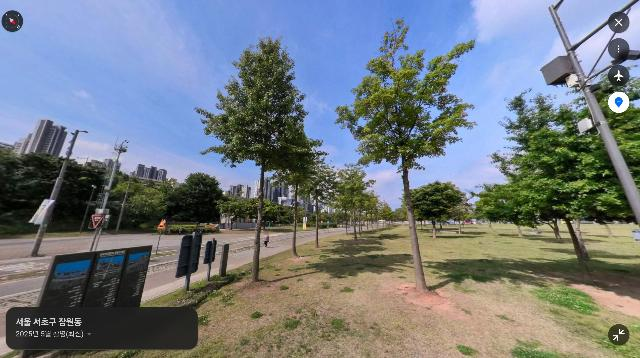other: (333, 17, 478, 293), (194, 34, 329, 283), (473, 86, 640, 262), (266, 151, 331, 258), (325, 166, 380, 241), (161, 172, 225, 230), (406, 181, 469, 239), (301, 167, 345, 248), (215, 199, 263, 230)
